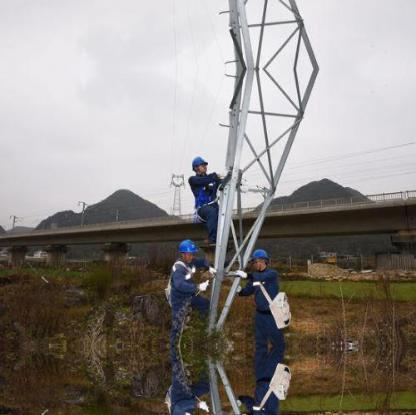helmet: (177, 238, 200, 256), (250, 245, 270, 261), (189, 153, 207, 168)
